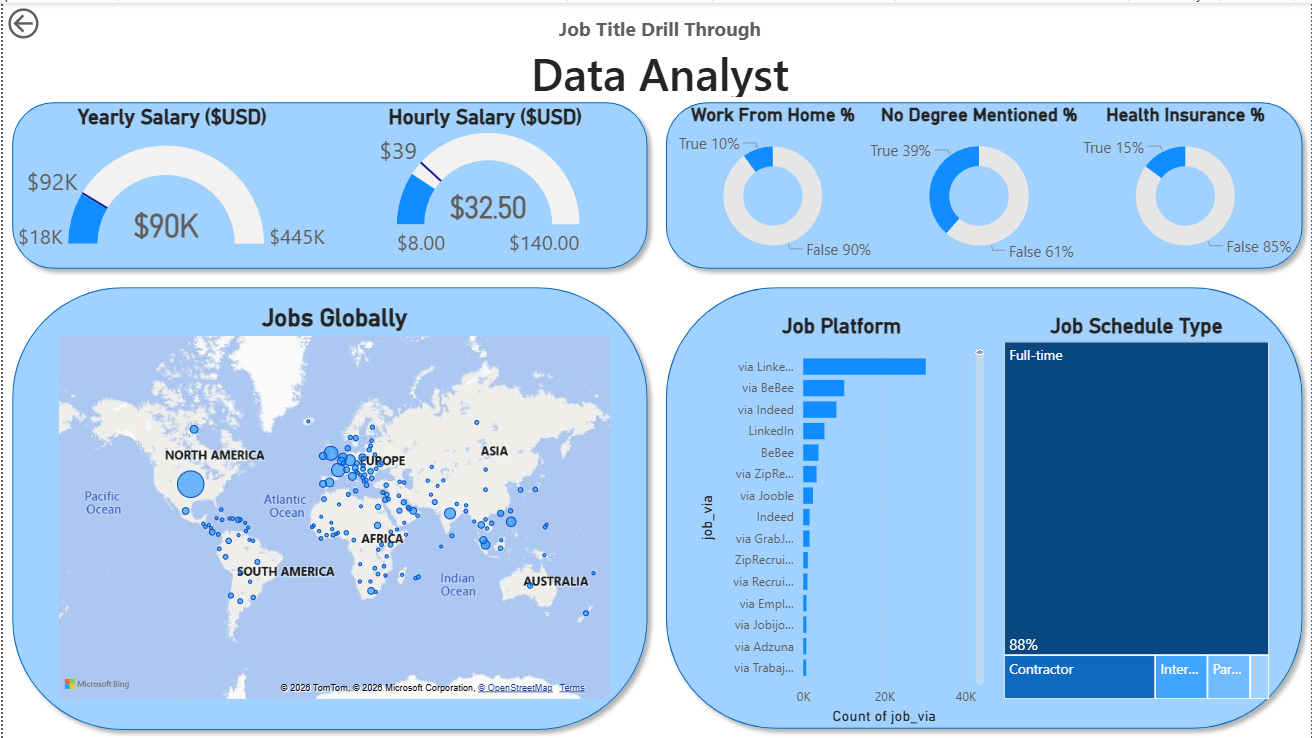

The page's visual inventory and layout, read from the dashboard file:
{"tool":"powerbi","page":{"name":"Job Title Drill Through","canvas":[1280,720],"ordinal":1},"visuals":[{"type":"group","id":"g1","title":"Background","box":[0,88,1280.3,632.2],"z":0},{"type":"cardVisual","fields":{"Data":["Min(job_postings_flat.job_title_short)1"]},"box":[340.8,0,603.6,109.8],"z":1000},{"type":"actionButton","box":[0,0,100,40],"z":2000},{"type":"gauge","title":"Yearly Salary ($USD)","fields":{"Y":["Median(job_postings_flat.salary_year_avg)"],"MinValue":["Min(job_postings_flat.salary_year_avg)1"],"MaxValue":["Max(job_postings_flat.salary_year_avg)2"],"TargetValue":["Avg(job_postings_flat.salary_year_avg)3"]},"box":[4.9,99,320.4,159],"z":3000},{"type":"gauge","title":"Hourly Salary ($USD)","fields":{"Y":["Median(job_postings_flat.salary_hour_avg)"],"MinValue":["Min(job_postings_flat.salary_hour_avg)1"],"MaxValue":["Max(job_postings_flat.salary_hour_avg)2"],"TargetValue":["Avg(job_postings_flat.salary_hour_avg)3"]},"box":[311.8,99,319.2,159],"z":4000},{"type":"donutChart","title":"Work From Home %","fields":{"Category":["job_postings_flat.job_work_from_home"],"Y":["CountNonNull(job_postings_flat.job_work_from_home)"]},"box":[642,99,222.6,159],"z":5000},{"type":"donutChart","title":"No Degree Mentioned %","fields":{"Category":["job_postings_flat.job_no_degree_mention"],"Y":["CountNonNull(job_postings_flat.job_no_degree_mention)"]},"box":[838.9,99,232.3,159],"z":6000},{"type":"donutChart","title":"Health Insurance %","fields":{"Category":["job_postings_flat.job_health_insurance"],"Y":["CountNonNull(job_postings_flat.job_health_insurance)"]},"box":[1044.3,99,225,159],"z":7000},{"type":"map","title":"Jobs Globally","fields":{"Category":["job_postings_flat.job_country"],"Size":["CountNonNull(job_postings_flat.job_title_short)"]},"box":[50.1,293.5,549.1,392.5],"z":8000},{"type":"treemap","title":"Job Schedule Type","fields":{"Group":["job_postings_flat.job_schedule_type"],"Values":["CountNonNull(job_postings_flat.job_schedule_type)"]},"box":[974.6,303.3,269,382.7],"z":9000},{"type":"barChart","title":"Job Platform","fields":{"Category":["job_postings_flat.job_via"],"Y":["CountNonNull(job_postings_flat.job_via)"]},"box":[676.2,303.3,288.6,407.2],"z":10000},{"type":"shape","box":[0,269,639.5,451.2],"z":12125,"group":"g1"},{"type":"shape","box":[639.5,88,640.8,181],"z":12250,"group":"g1"},{"type":"shape","box":[639.5,269,640.8,450],"z":12500,"group":"g1"},{"type":"shape","box":[0,88,639.5,181],"z":13000,"group":"g1"}]}

Visuals, with their boxes in screenshot pixels (x1, y1, x2, y2), scaled from the page's 1280x720 canvas onto the 1312x738 screenshot:
"Background" group: bbox=[0, 90, 1311, 737]
cardVisual - Min(job_postings_flat.job_title_short)1: bbox=[349, 0, 968, 113]
actionButton: bbox=[0, 0, 102, 41]
"Yearly Salary ($USD)" gauge: bbox=[5, 101, 333, 264]
"Hourly Salary ($USD)" gauge: bbox=[320, 101, 647, 264]
"Work From Home %" donutChart: bbox=[658, 101, 886, 264]
"No Degree Mentioned %" donutChart: bbox=[860, 101, 1098, 264]
"Health Insurance %" donutChart: bbox=[1070, 101, 1301, 264]
"Jobs Globally" map: bbox=[51, 301, 614, 703]
"Job Schedule Type" treemap: bbox=[999, 311, 1275, 703]
"Job Platform" barChart: bbox=[693, 311, 989, 728]
shape: bbox=[0, 276, 655, 737]
shape: bbox=[655, 90, 1311, 276]
shape: bbox=[655, 276, 1311, 737]
shape: bbox=[0, 90, 655, 276]
